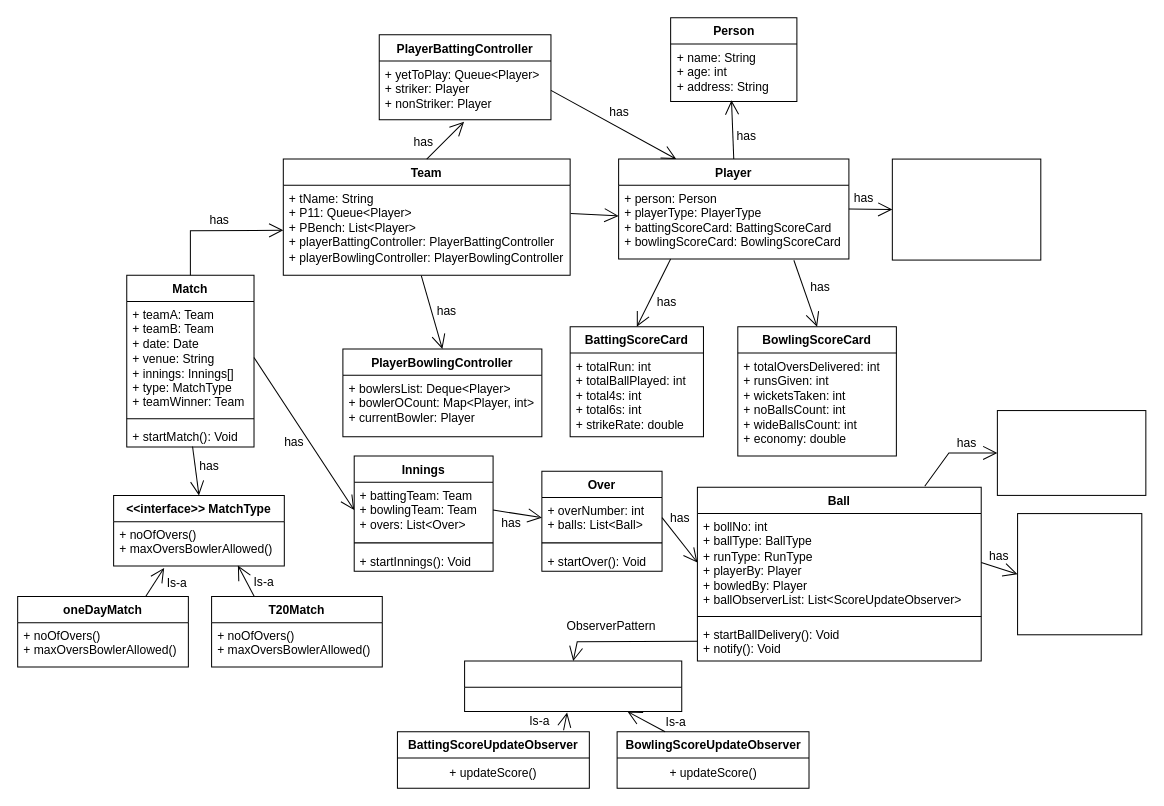
Some shapes in this 1164 by 806 pixel diagram are drawn without their labels. The centre of each missing label's shape, as x and y in pixels:
"<<interface>> ScoreUpdateObserver" belongs at (573,686).
"enum BallType{ NORMAL, NOBALL, WIDEBALL }" belongs at (1071,452).
"enum PlayerType{ BOWLER, BATSMAN, WICKETKEEPER, ALLROUNDER, CAPTAIN }" belongs at (966,209).
"enum RunType{ ONE, TWO, FOUR, SIX, WIDERUN }" belongs at (1079,574).
